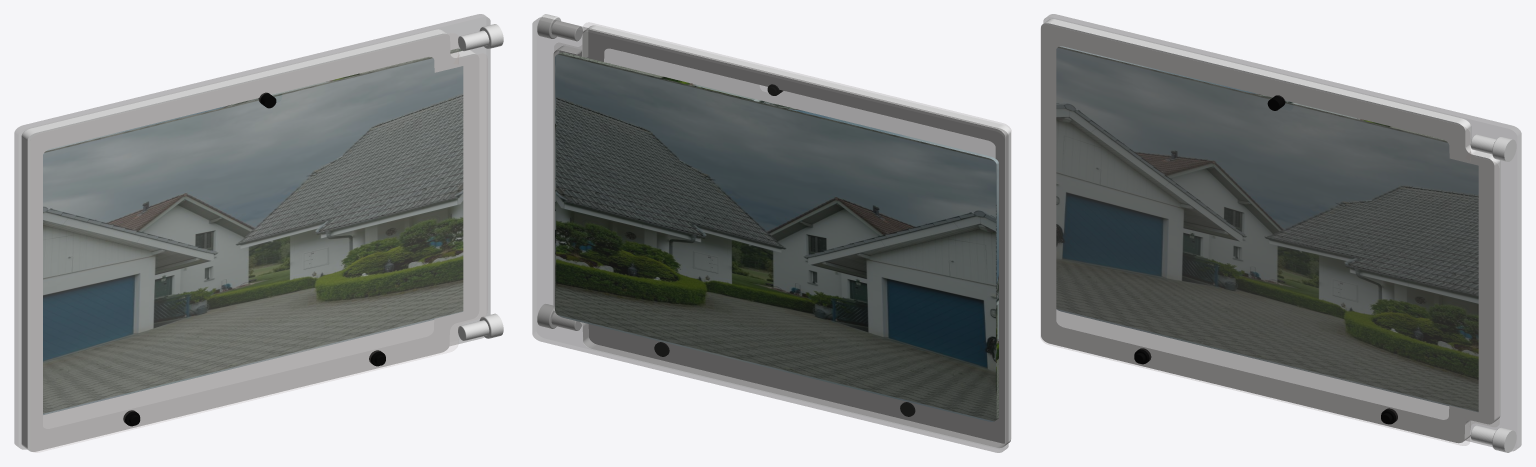
File: a5landsr8.glb
3 renders of one model, left to right at view 1: azimuth 30°, elevation 25°; view 2: azimuth 150°, elevation 25°; view 3: azimuth 330°, elevation 25°, orthographic.
Visible parts, largest first — view 1: a4horzone; view 2: a4horzone; view 3: a4horzone.
Boxes of the visible parts, left/top/right/bottom form: a4horzone: left=14, top=14, right=503, bottom=452; a4horzone: left=532, top=14, right=1011, bottom=452; a4horzone: left=1040, top=14, right=1521, bottom=452.
Bounding box in the file's own units: 0.3398 × 0.2208 × 0.0214.
6 materials, 1 textured.
